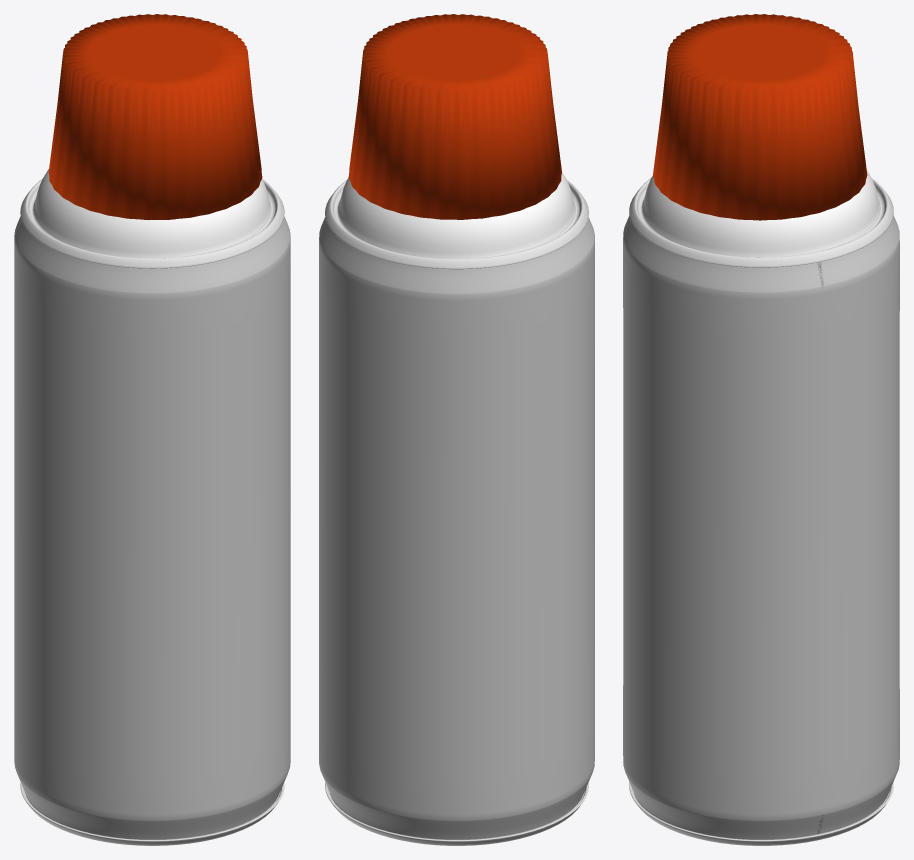
The model's file is uploads_files_2658491_SM_SprayCan_01_HighPoly.fbx.
3 renders of one model, left to right at view 1: azimuth 30°, elevation 25°; view 2: azimuth 150°, elevation 25°; view 3: azimuth 270°, elevation 25°, orthographic.
Visible parts, largest first — view 1: SprayCan; view 2: SprayCan; view 3: SprayCan.
Boxes of the visible parts, x1,y1,x2,y2 form: SprayCan: (14,14,290,845); SprayCan: (319,14,594,845); SprayCan: (623,14,899,845).
Bounding box in the file's own units: 21 × 62.01 × 21.
Materials: 6 (1 with a texture image).
